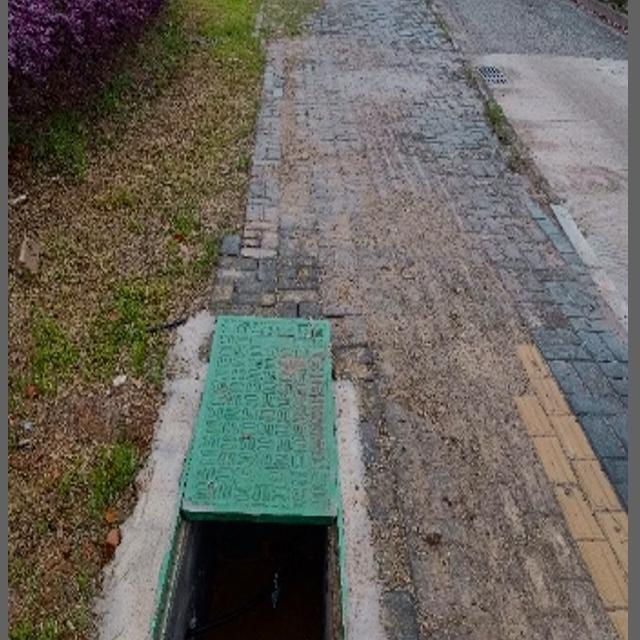uncovered: (169, 290, 358, 640)
